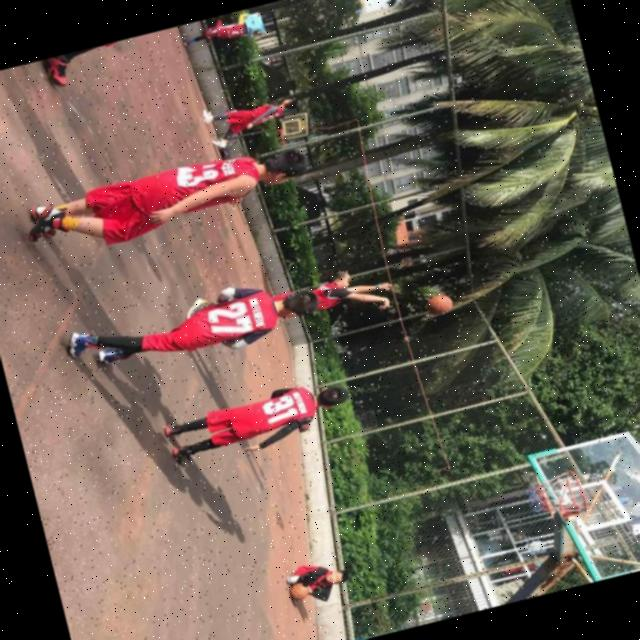ball: (422, 292, 454, 318)
hoop: (560, 462, 592, 518)
